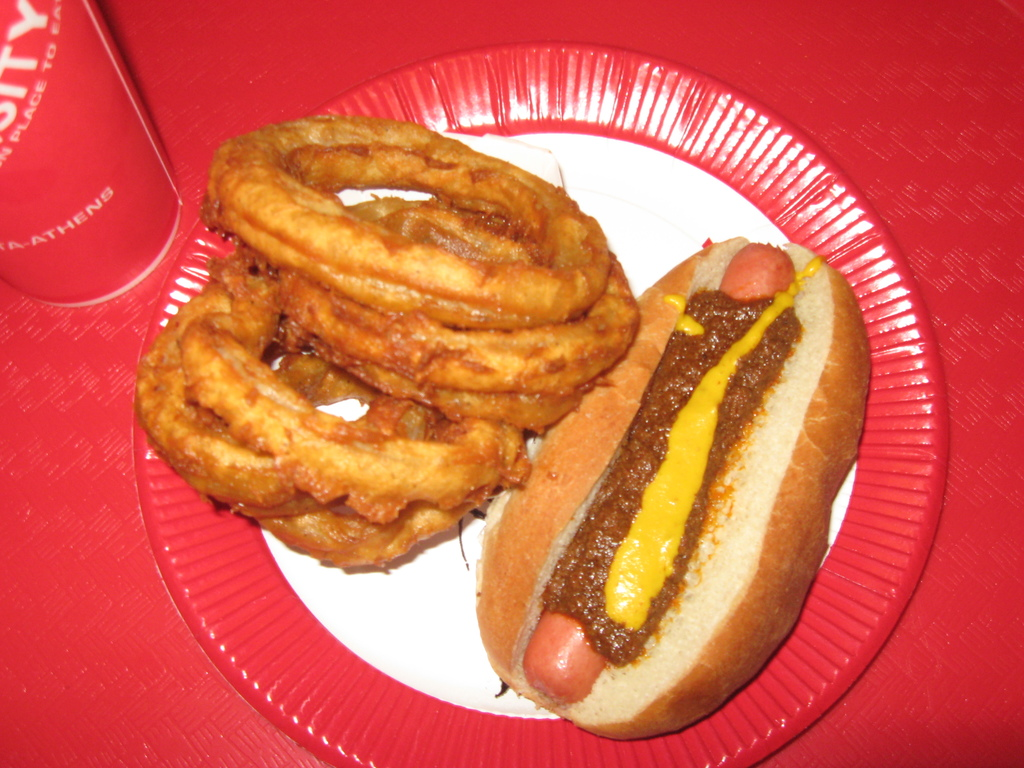hot_dog: (462, 214, 881, 766)
